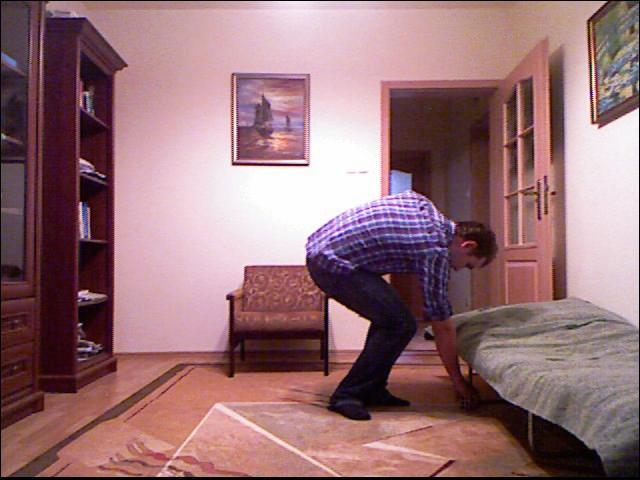bending: (300, 172, 507, 431)
